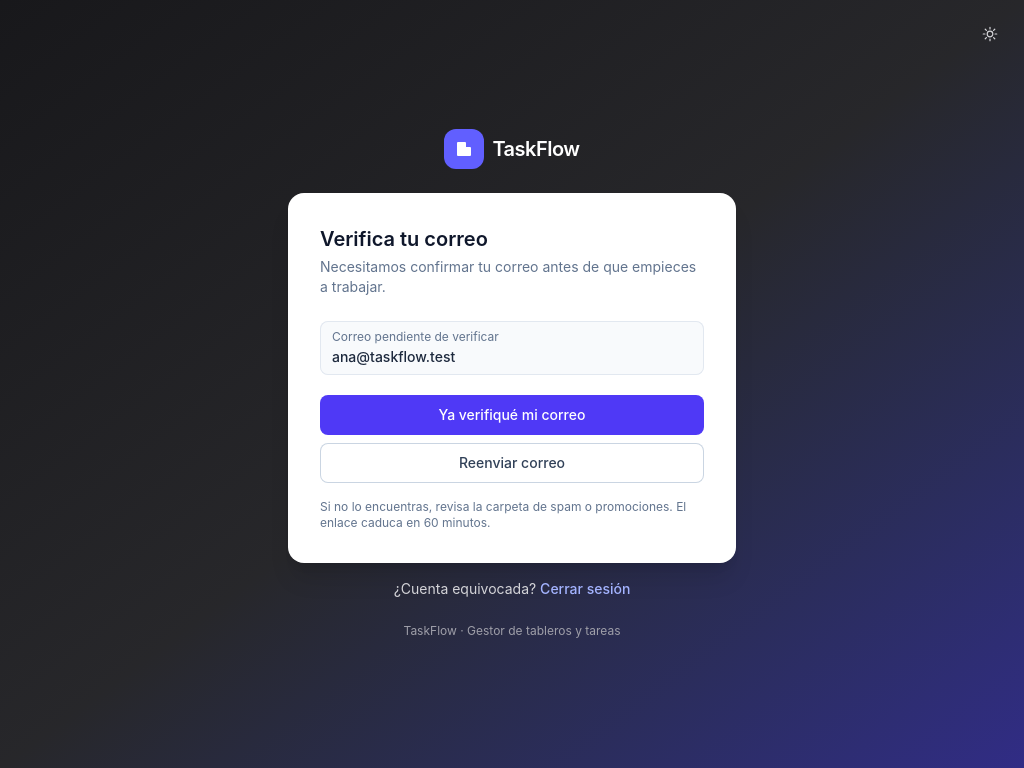
Test: VerifyEmailPage › resends the verification email
Click the button "Reenviar correo" at coordinates (512, 463), box 320,443 -> 704,483
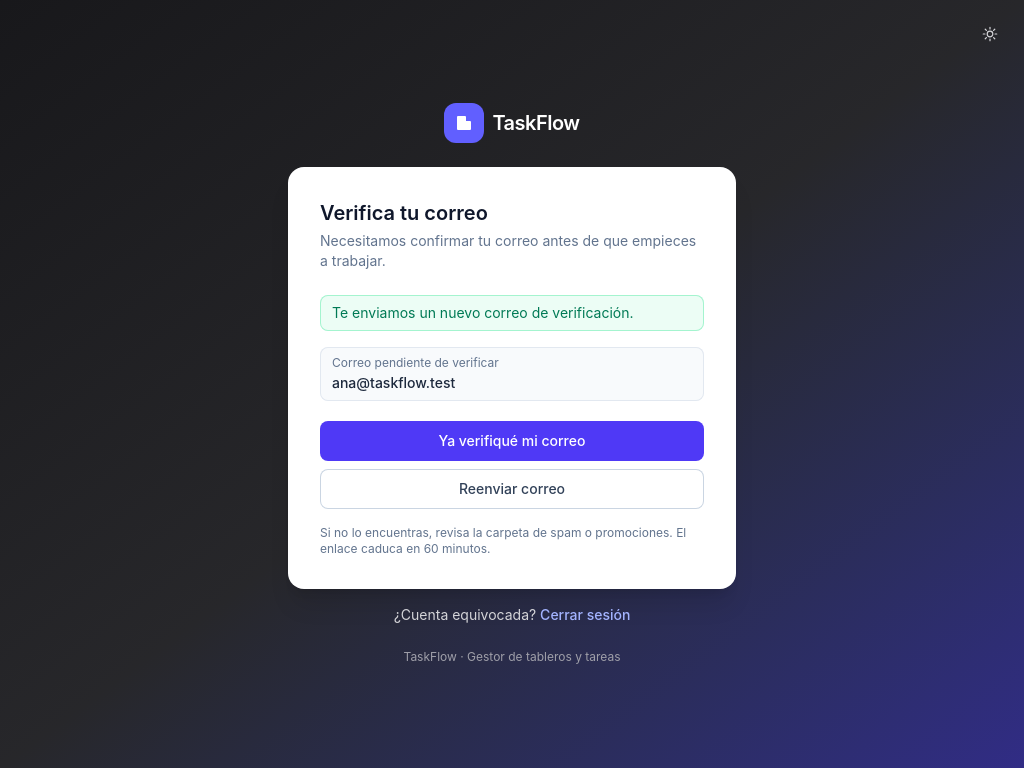
Expected: the text "Te enviamos un nuevo correo de verificación." is shown, 320,295 -> 704,331
